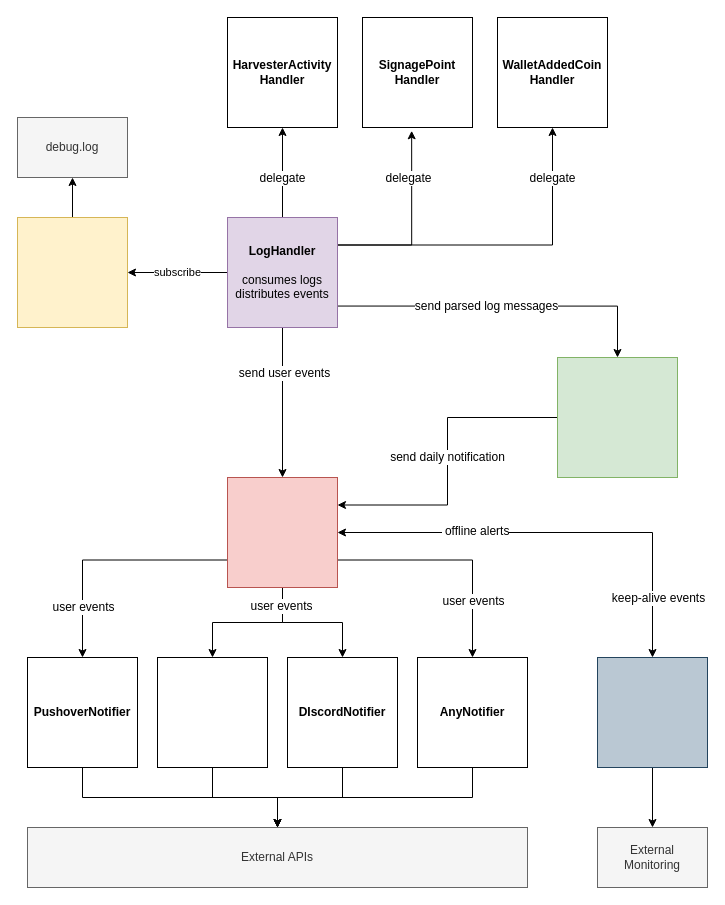
This 725x905 diagram has some shape labels left out. Each missing label, with the centre of its shape:
KeepAliveMonitor: the point at 652,712
LogConsumer reads logs: the point at 72,272
NotifyManager distributes events: the point at 282,532
SlackNotifier: the point at 212,712
StatsManager collects daily stats: the point at 617,417
